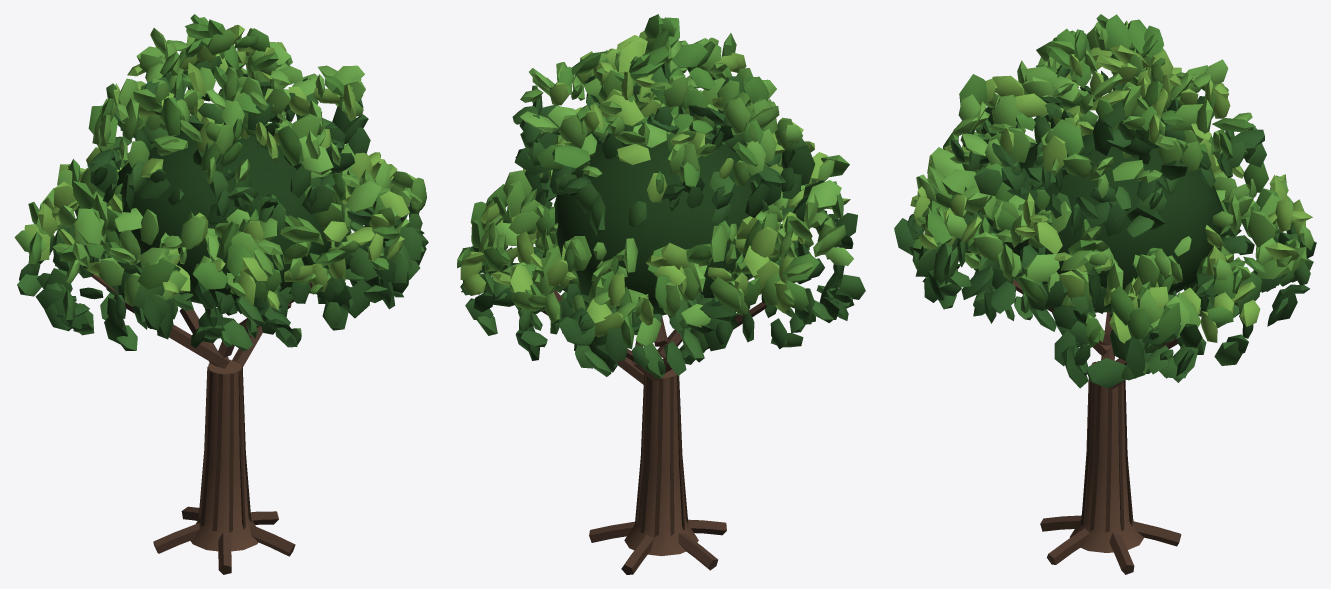
The model's file is suburb_tree.glb.
The picture shows the model from 3 angles, left to right: view 1: azimuth 30°, elevation 25°; view 2: azimuth 150°, elevation 25°; view 3: azimuth 270°, elevation 25°; orthographic projection.
Visible parts, largest first — view 1: suburb_tree; view 2: suburb_tree; view 3: suburb_tree.
Boxes of the visible parts, left/top/right/bottom form: suburb_tree: left=14, top=14, right=428, bottom=574; suburb_tree: left=457, top=14, right=865, bottom=574; suburb_tree: left=894, top=14, right=1316, bottom=574.
Bounding box in the file's own units: 5.81 × 8.06 × 5.86.
